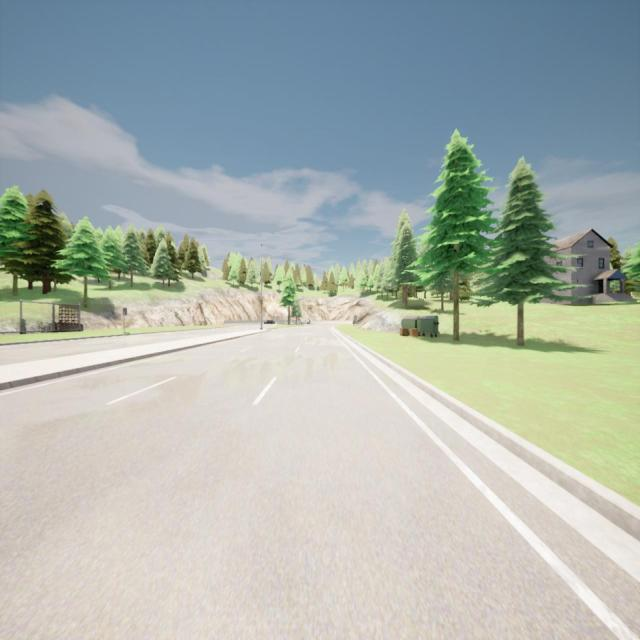Traffic_Signs: (122, 308, 128, 315)
Vehicle: (264, 320, 276, 324), (302, 318, 310, 324)
